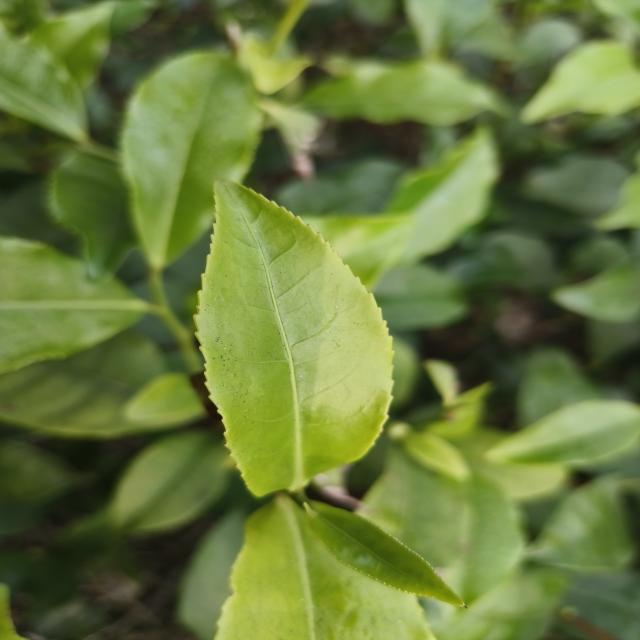Leaf: (196, 181, 392, 496), (215, 494, 432, 640), (121, 51, 262, 267), (0, 236, 147, 373), (0, 331, 187, 438), (304, 501, 464, 606), (386, 129, 498, 264), (303, 58, 502, 126), (108, 431, 231, 532), (49, 150, 135, 278), (0, 23, 88, 142), (487, 399, 640, 465), (522, 41, 640, 123), (532, 477, 633, 571), (303, 213, 412, 289), (30, 1, 117, 90), (524, 158, 630, 216), (552, 263, 640, 322), (125, 372, 206, 427), (402, 431, 470, 481)
